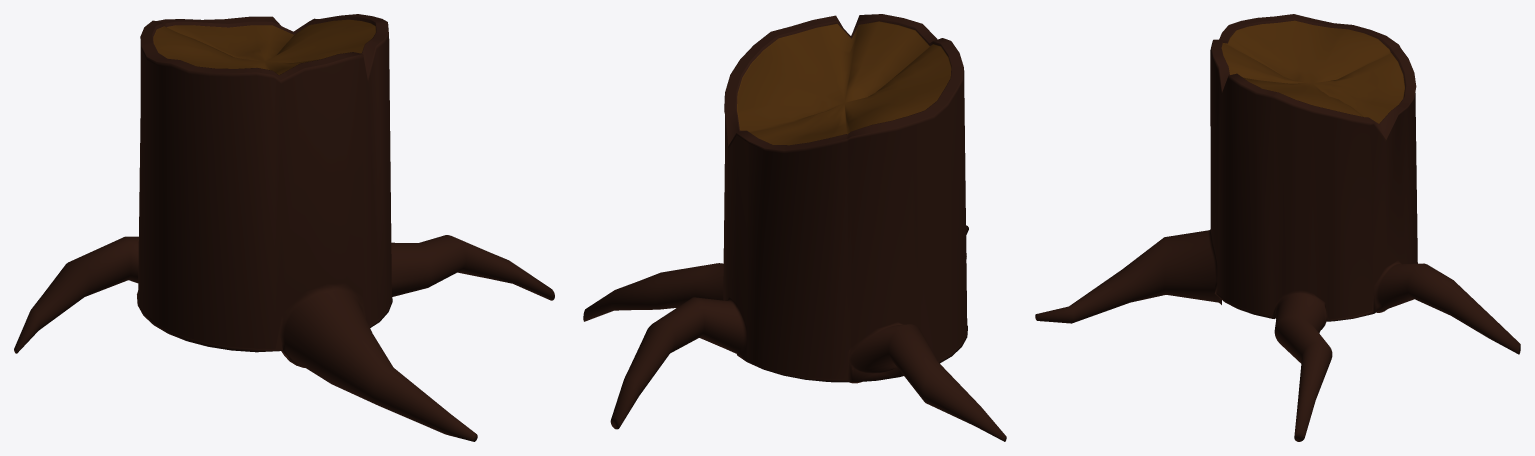
Rendered from StumpHQ.fbx.
3 views of the same model, side by side, from view 1: azimuth 30°, elevation 25°; view 2: azimuth 150°, elevation 25°; view 3: azimuth 270°, elevation 25° (orthographic). The views are drawn at different scales.
Parts seen in each view (by area): view 1: Trunk; view 2: Trunk; view 3: Trunk.
Boxes of the visible parts, left/top/right/bottom form: Trunk: left=14, top=14, right=554, bottom=441; Trunk: left=583, top=14, right=1006, bottom=441; Trunk: left=1035, top=14, right=1520, bottom=441.
Bounding box in the file's own units: 221 × 149 × 232.
